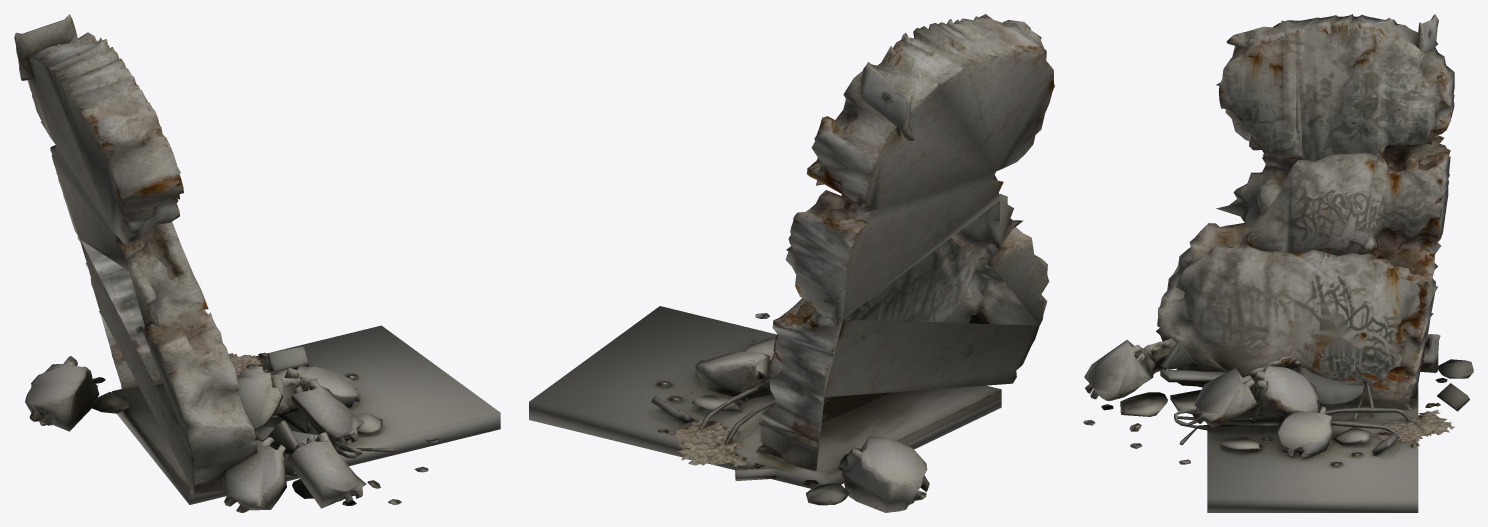
Rendered from wall_section.glb.
3 renders of one model, left to right at view 1: azimuth 30°, elevation 25°; view 2: azimuth 150°, elevation 25°; view 3: azimuth 270°, elevation 25°, orthographic. The views are drawn at different scales.
Visible parts, largest first — view 1: tripo_node_f7938188-7aed-4357-9c1b-a24f01dc4c84; view 2: tripo_node_f7938188-7aed-4357-9c1b-a24f01dc4c84; view 3: tripo_node_f7938188-7aed-4357-9c1b-a24f01dc4c84.
Boxes of the visible parts, <box> form: tripo_node_f7938188-7aed-4357-9c1b-a24f01dc4c84: <box>14,14,500,512</box>; tripo_node_f7938188-7aed-4357-9c1b-a24f01dc4c84: <box>529,14,1054,512</box>; tripo_node_f7938188-7aed-4357-9c1b-a24f01dc4c84: <box>1083,14,1473,512</box>.
Bounding box in the file's own units: 0.9746 × 0.998 × 0.9902.
Materials: 1 (1 with a texture image).
